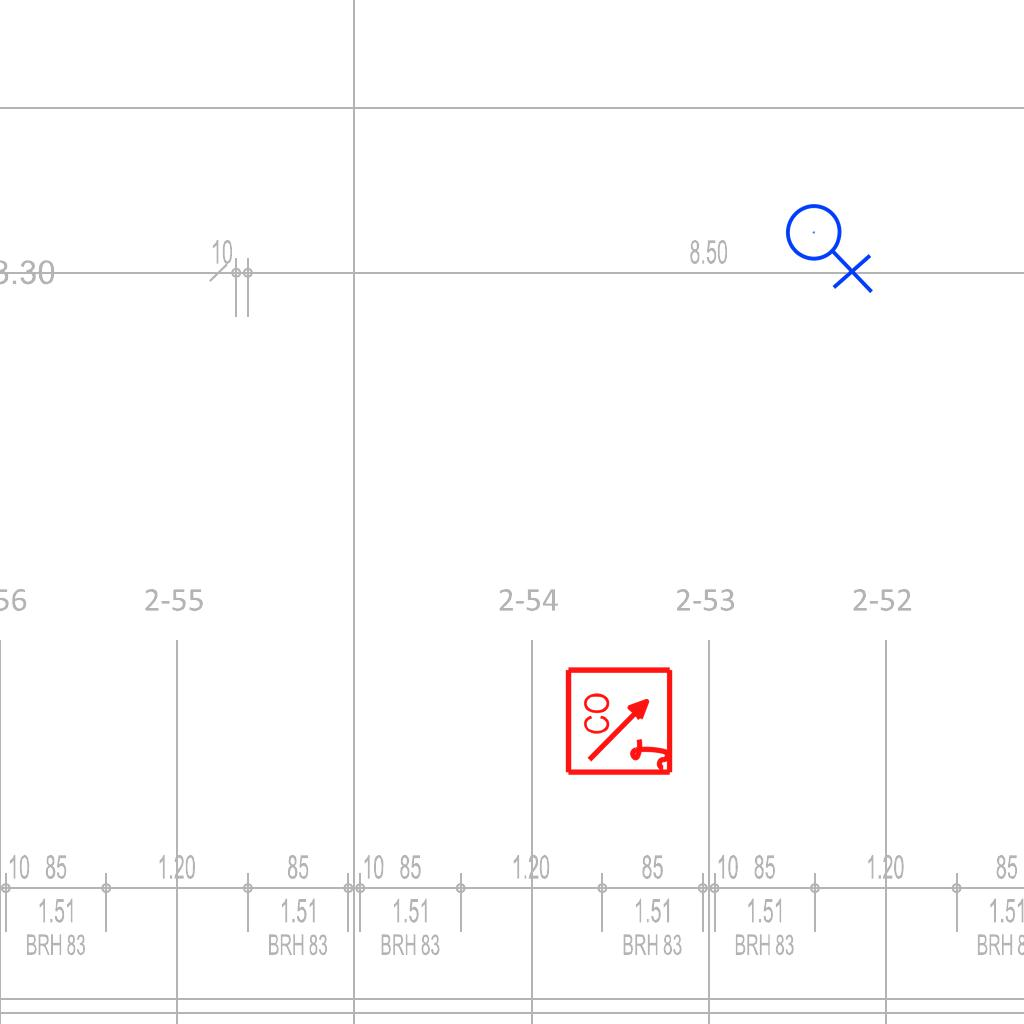Elektroanschluss_allgemein_230V_Geraeteanschlussdose_230V: (784, 195, 878, 294)
ROA_Rauchmelder_optisch_mit_Signalgeber_(Sockelsirene): (564, 664, 677, 777)
